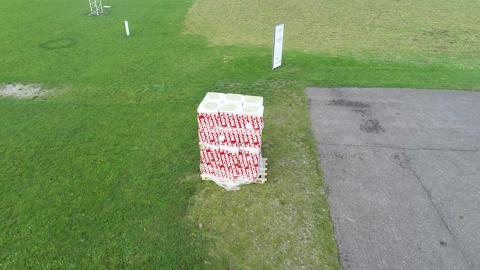RockwoolPallet: (196, 92, 266, 184)
